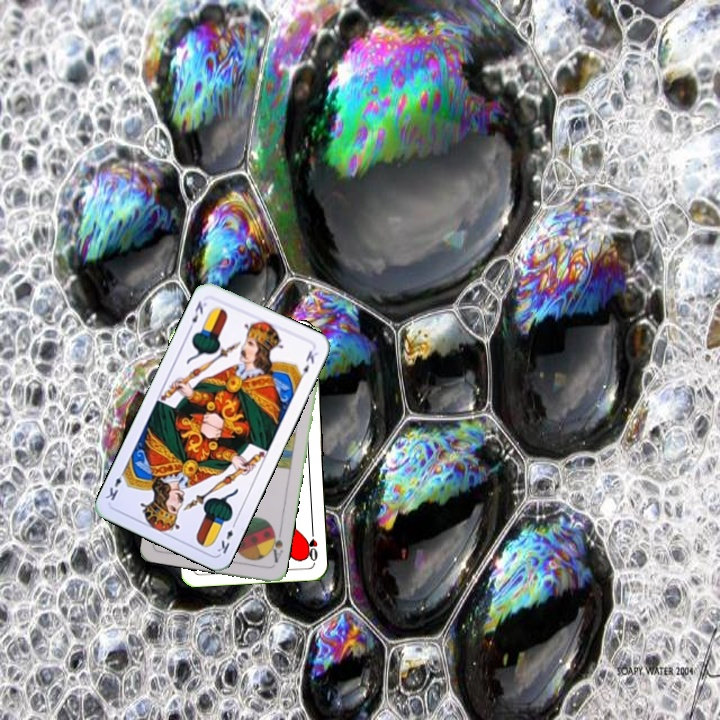EK: (213, 517, 239, 556), (184, 297, 209, 333)
HO: (303, 524, 320, 564)
SA: (265, 526, 285, 565)
